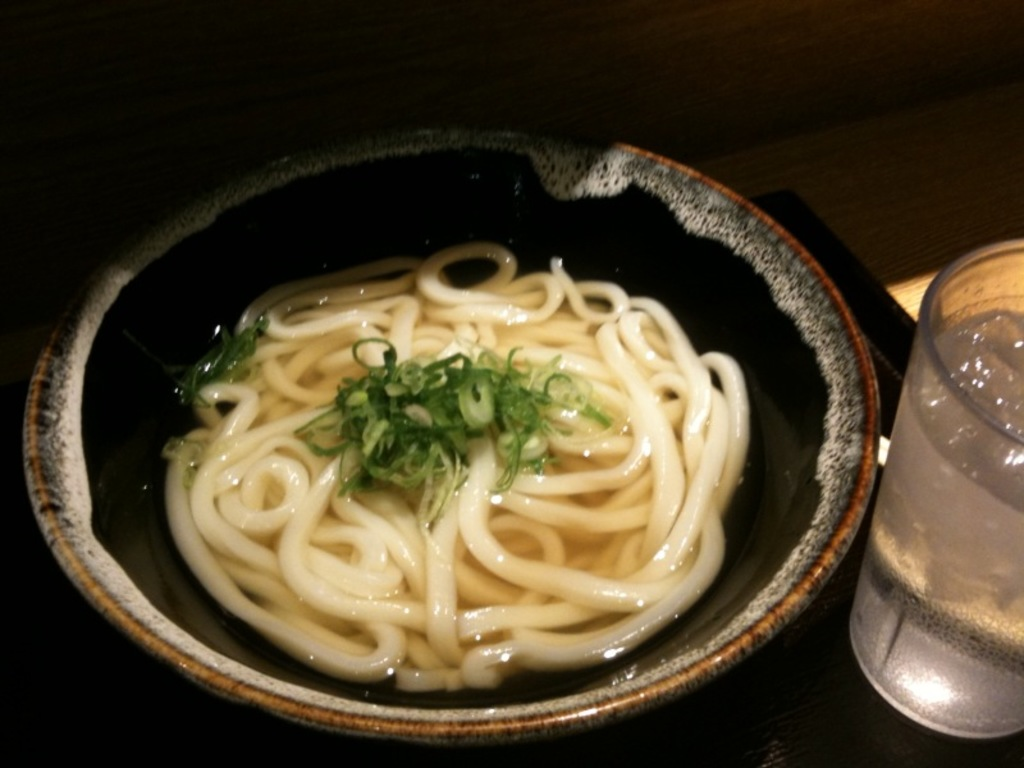pasta: (165, 250, 746, 687)
